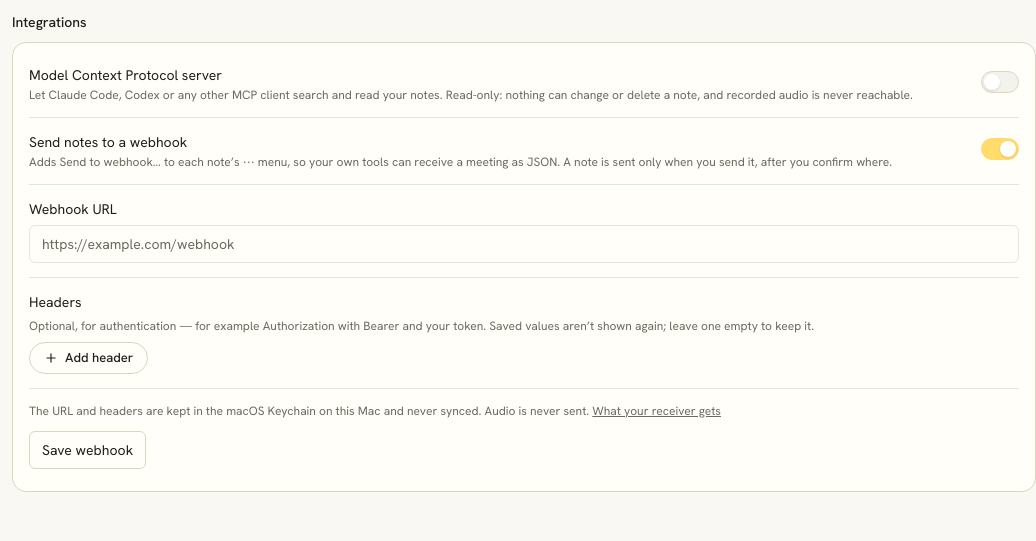
Scenario: the webhook endpoint › shows the backend's refusal and doesn't claim it saved
Click the button "Save webhook" at (88, 450), box [29, 431, 146, 469]
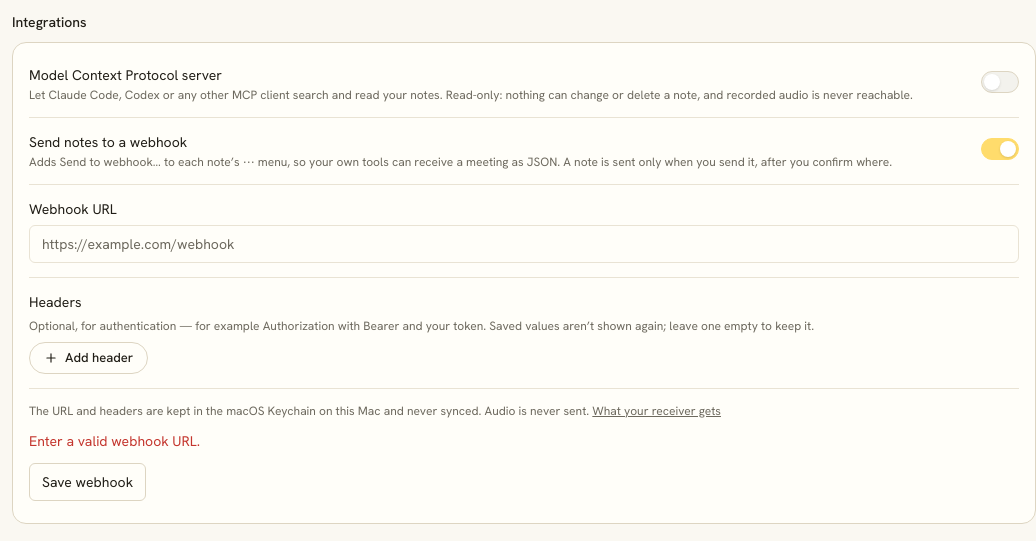
Now the message reads "Enter a valid webhook URL.", box [29, 432, 200, 450]
